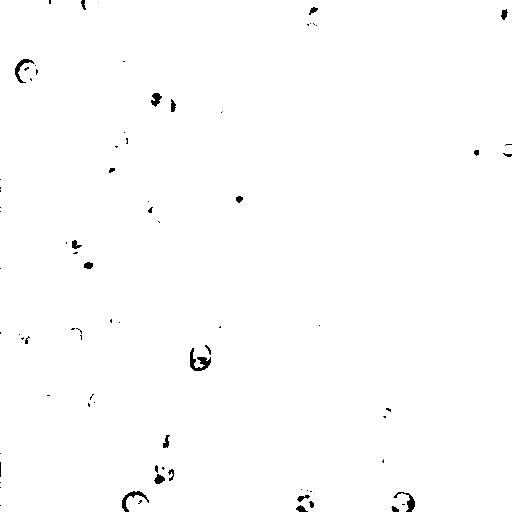micro-algae: (88, 86, 187, 182), (57, 224, 117, 290), (359, 104, 418, 164), (186, 425, 239, 475), (450, 0, 503, 47), (39, 371, 88, 420), (463, 463, 511, 511), (278, 11, 326, 54), (268, 436, 311, 481), (193, 297, 232, 342), (155, 81, 191, 125), (456, 132, 496, 170), (138, 194, 179, 231), (130, 405, 169, 441), (358, 403, 402, 432), (103, 122, 139, 155), (99, 299, 130, 333), (374, 442, 407, 473), (284, 486, 323, 512), (196, 459, 228, 490), (311, 351, 341, 383), (400, 222, 432, 250), (113, 48, 144, 76), (99, 160, 127, 190), (304, 318, 329, 350), (172, 31, 202, 57), (190, 341, 213, 374), (89, 384, 115, 413), (13, 57, 40, 84), (76, 247, 103, 274), (121, 490, 153, 512), (16, 327, 39, 356), (388, 490, 418, 512), (152, 460, 176, 486), (145, 469, 170, 493), (307, 5, 332, 28), (64, 230, 86, 256), (292, 1, 323, 19), (63, 323, 84, 349), (492, 1, 512, 28), (215, 98, 239, 120), (262, 94, 284, 116), (230, 192, 251, 207), (37, 0, 57, 15), (81, 0, 101, 13), (446, 80, 461, 96), (501, 141, 511, 158)
